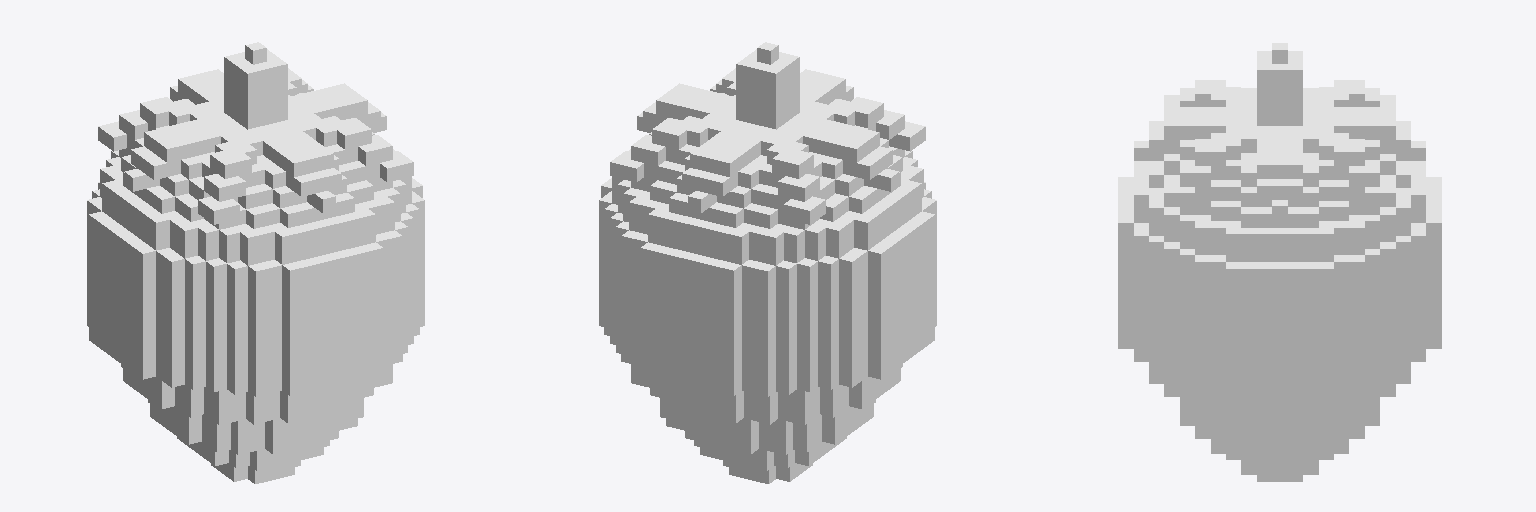
File: strawberry.obj
3 views of the same model, side by side, from view 1: azimuth 30°, elevation 25°; view 2: azimuth 150°, elevation 25°; view 3: azimuth 270°, elevation 25° (orthographic).
Bounding box in the file's own units: 21 × 30 × 21.